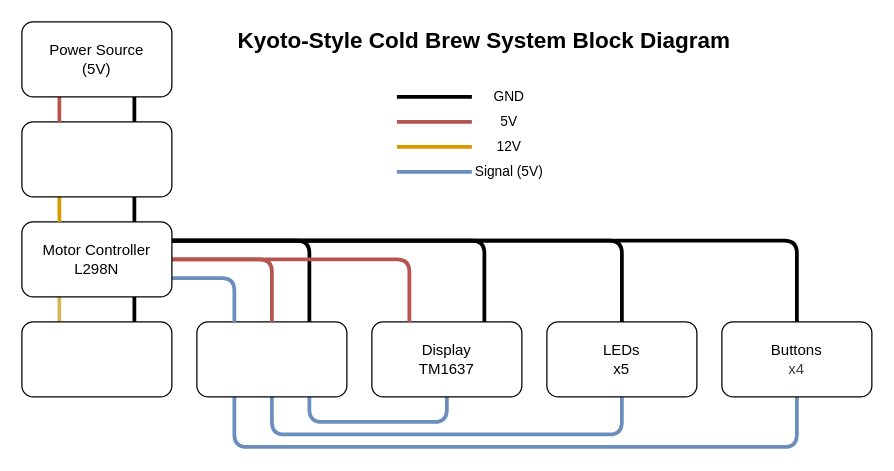
This 894x471 diagram has some shape labels left out. The shapes that lost their labels are listed below. From the top down, each one's centre as x and y in pixels, then its label:
At point 96,159: "Buck-Boost Converter 5V -> 12V".
At point 96,359: "Peristaltic Pump".
At point 271,359: "Arduino Nano".
